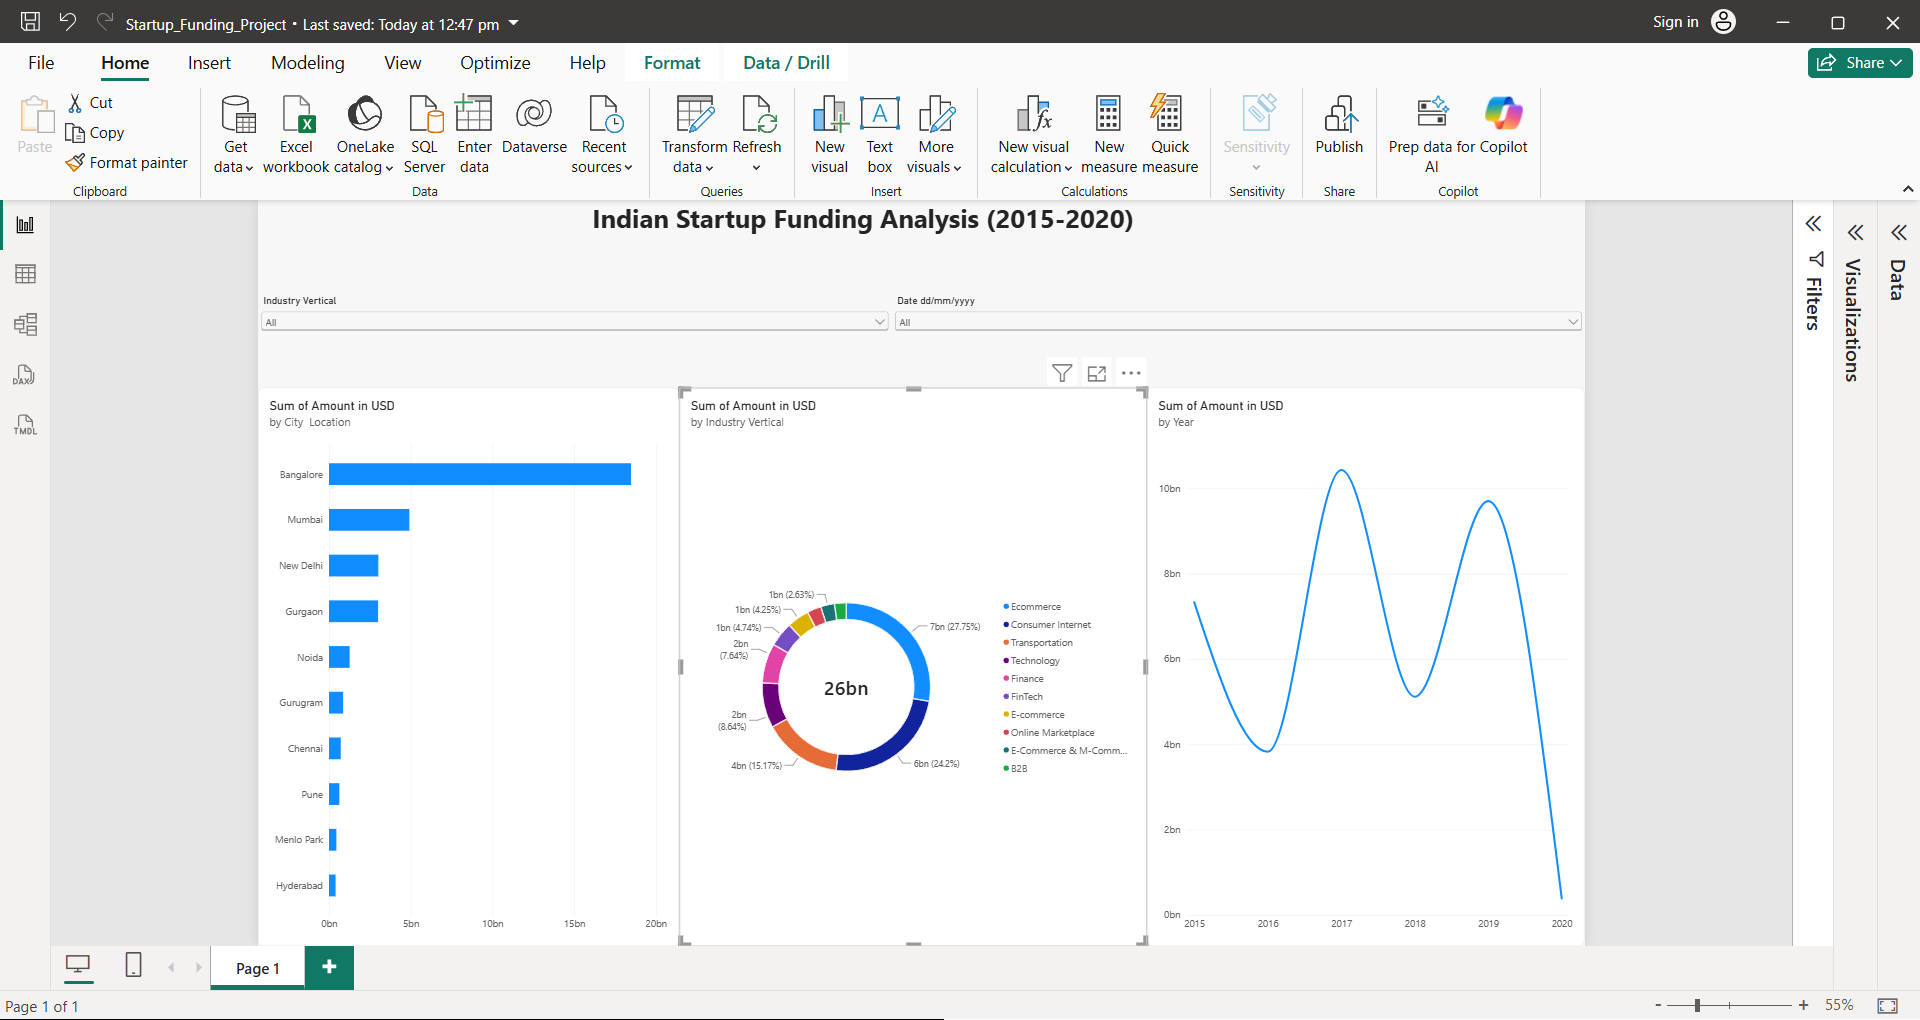

Layout of this report page (visuals, bound fields, positions):
{"tool":"powerbi","page":{"name":"Page 1","canvas":[1920,1080],"ordinal":0},"visuals":[{"type":"barChart","fields":{"Category":["startup_funding.City  Location"],"Y":["Sum(startup_funding.Amount in USD)"]},"box":[0,271.7,609.3,808.9],"z":0},{"type":"donutChart","fields":{"Category":["startup_funding.Industry Vertical"],"Y":["Sum(startup_funding.Amount in USD)"]},"box":[609.3,271.7,677.2,808.9],"z":1},{"type":"lineChart","fields":{"Category":["startup_funding.Date dd/mm/yyyy.Variation.Date Hierarchy.Year","startup_funding.Date dd/mm/yyyy.Variation.Date Hierarchy.Quarter","startup_funding.Date dd/mm/yyyy.Variation.Date Hierarchy.Month","startup_funding.Date dd/mm/yyyy.Variation.Date Hierarchy.Day"],"Y":["Sum(startup_funding.Amount in USD)"]},"box":[1286.5,271.7,634,808.9],"z":2},{"type":"textbox","box":[400,100,170,231],"z":3},{"type":"textbox","box":[1195,0,615,482],"z":4},{"type":"textbox","box":[100,100,300,300],"z":6},{"type":"textbox","box":[100,100,300,300],"z":7},{"type":"textbox","box":[100,100,300,300],"z":8},{"type":"textbox","box":[100,100,300,300],"z":9},{"type":"textbox","box":[100,100,300,300],"z":10},{"type":"textbox","box":[100,100,300,300],"z":11},{"type":"textbox","box":[100,100,300,300],"z":12},{"type":"textbox","box":[0,0,1920.4,137.9],"z":13},{"type":"slicer","fields":{"Values":["startup_funding.Date dd/mm/yyyy"]},"box":[918,137.9,1004.5,102.9],"z":14},{"type":"slicer","fields":{"Values":["startup_funding.Industry Vertical"]},"box":[0,137.9,918,133.8],"z":15}]}

Visuals, with their boxes on the page's 1920x1080 design canvas (x1, y1, x2, y2). These are canvas units, not pixel positions in the 1920x1020 screenshot, which may show the page scaled, cropped or inside an application window:
barChart - startup_funding.City  Location x Sum(startup_funding.Amount in USD): Rect(0, 272, 609, 1081)
donutChart - startup_funding.Industry Vertical x Sum(startup_funding.Amount in USD): Rect(609, 272, 1286, 1081)
lineChart - startup_funding.Date dd/mm/yyyy.Variation.Date Hierarchy.Year x startup_funding.Date dd/mm/yyyy.Variation.Date Hierarchy.Quarter: Rect(1286, 272, 1920, 1081)
textbox: Rect(400, 100, 570, 331)
textbox: Rect(1195, 0, 1810, 482)
textbox: Rect(100, 100, 400, 400)
textbox: Rect(100, 100, 400, 400)
textbox: Rect(100, 100, 400, 400)
textbox: Rect(100, 100, 400, 400)
textbox: Rect(100, 100, 400, 400)
textbox: Rect(100, 100, 400, 400)
textbox: Rect(100, 100, 400, 400)
textbox: Rect(0, 0, 1920, 138)
slicer - startup_funding.Date dd/mm/yyyy: Rect(918, 138, 1922, 241)
slicer - startup_funding.Industry Vertical: Rect(0, 138, 918, 272)
